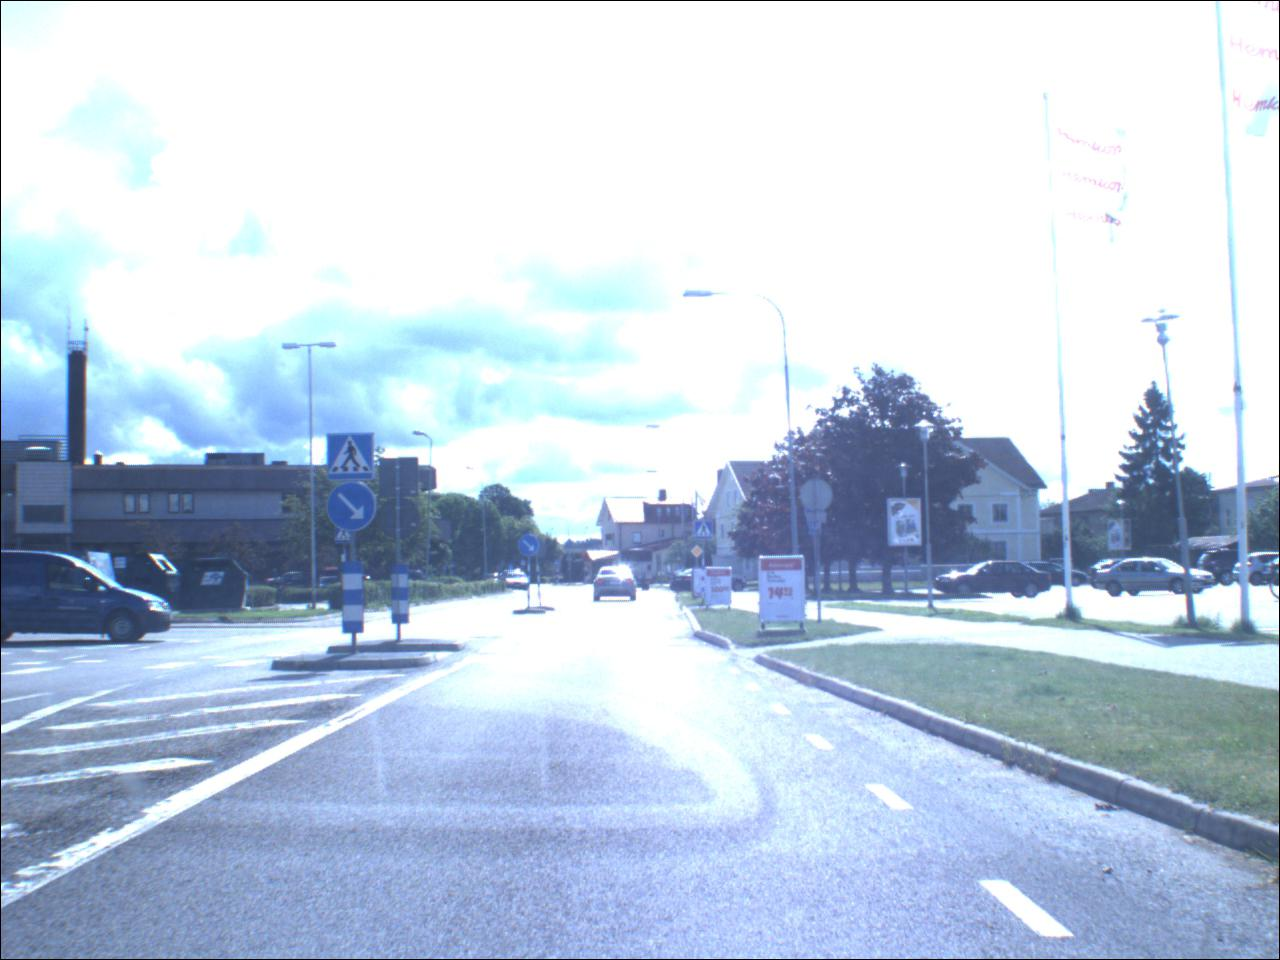PASS_RIGHT_SIDE: (329, 483, 380, 534), (520, 536, 543, 559)
PEDESTRIAN_CROSSING: (330, 435, 376, 482), (697, 523, 715, 542), (337, 528, 354, 546)
PRIORITY_ROAD: (692, 547, 706, 561)
